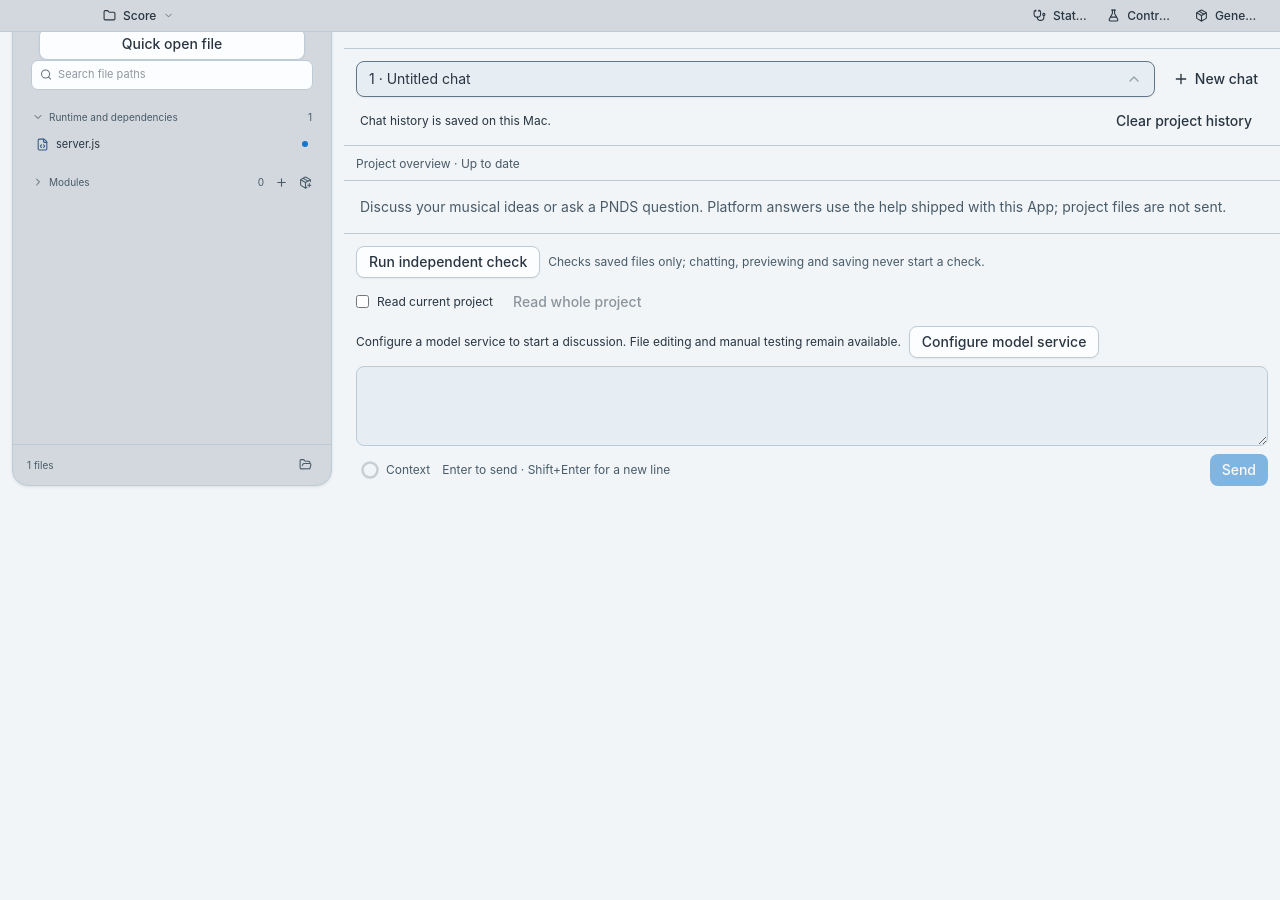
Test case: reviews saved-disk Git differences through the project menu while retaining the draft and run
Click the button with aria-label "Project actions": [139, 16] box [96,4,181,28]
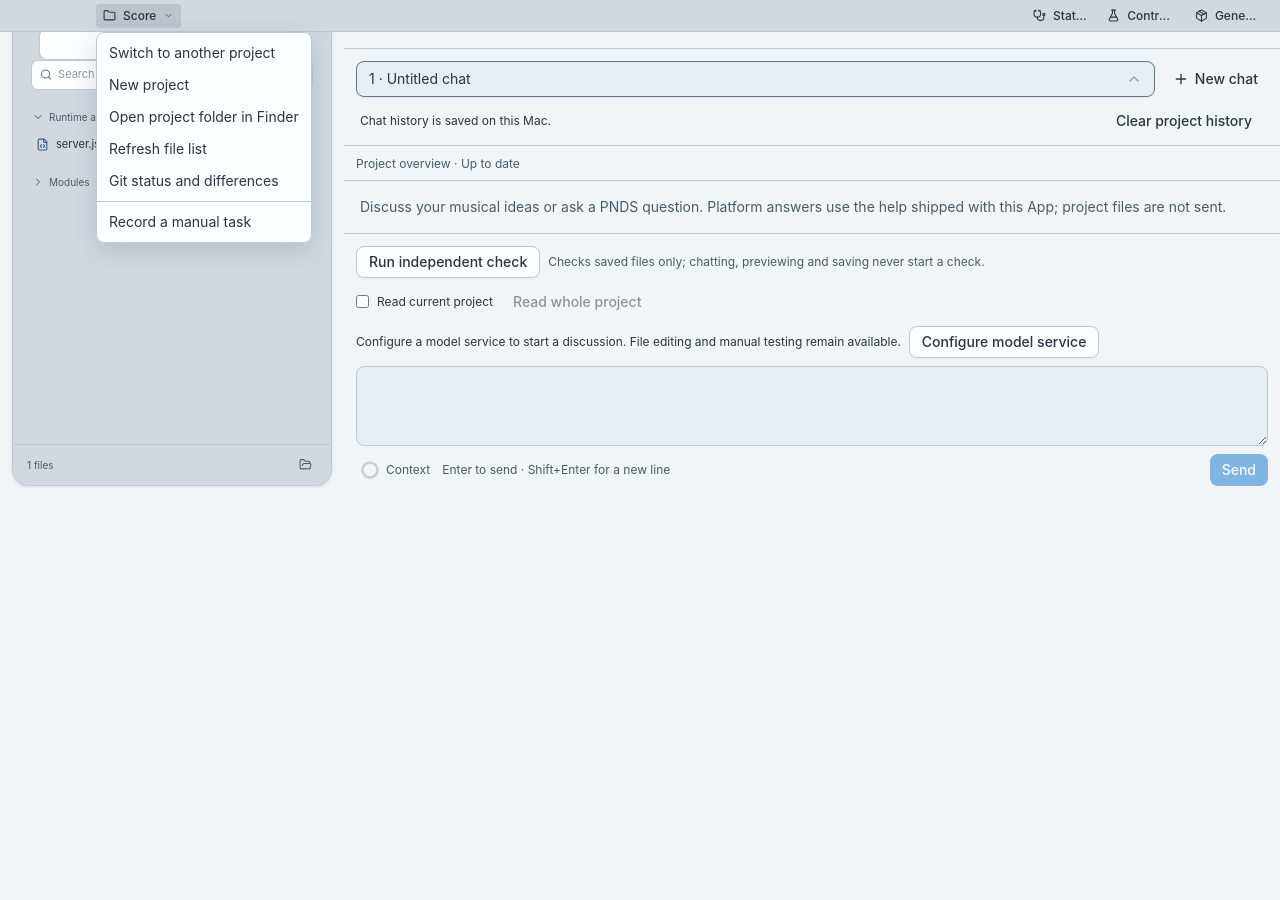
Click the menu item "Git status and differences": [194, 180] box [109,172,279,189]
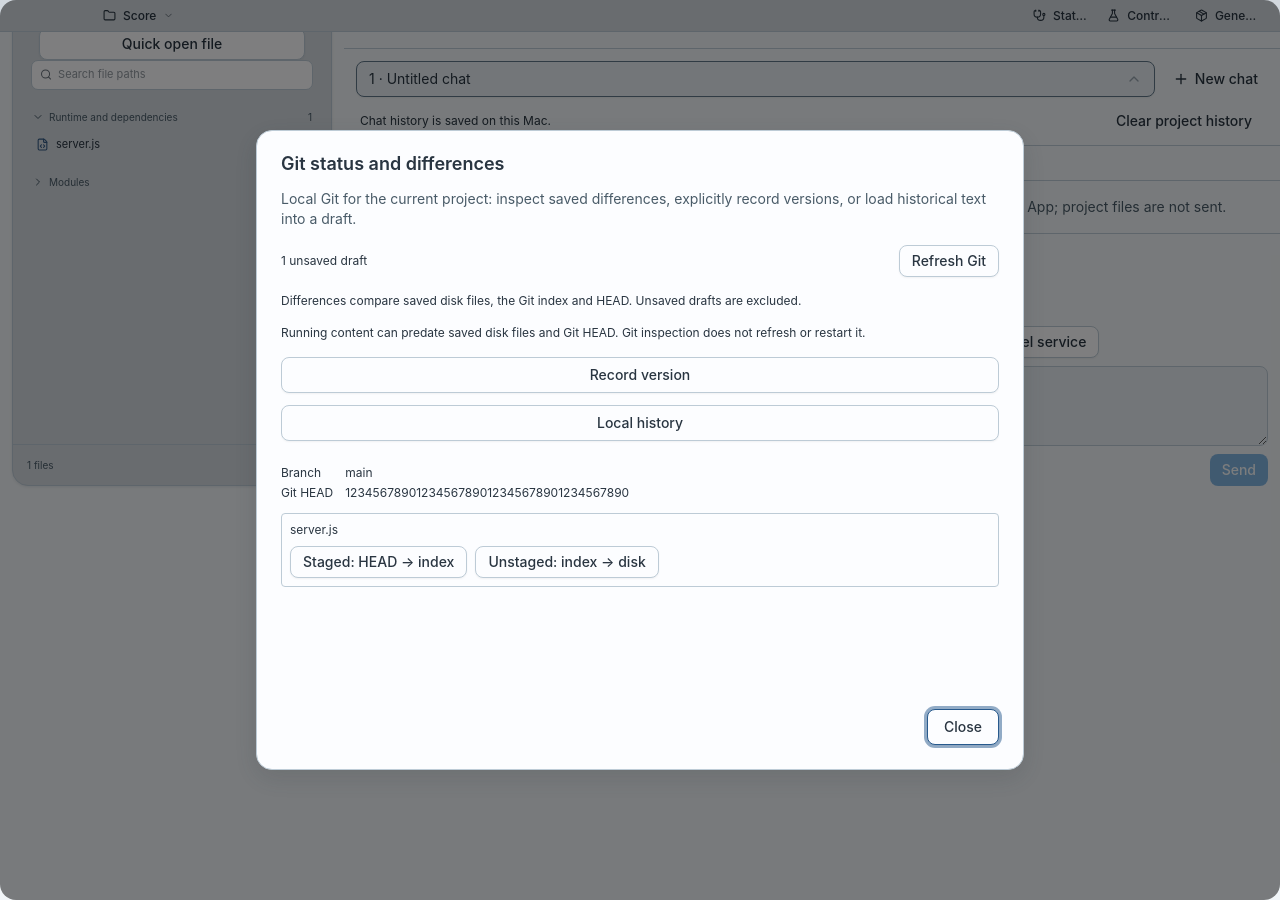
Check: the dialog "Git status and differences" is shown, box [256,130,1024,770]
Check: the text "main" is shown, box [345,465,372,480]
Check: the text "1 unsaved draft" is shown, box [281,253,367,269]
Click the button with aria-label "server.js — Staged: HEAD → index": [379, 562] box [290,546,467,578]
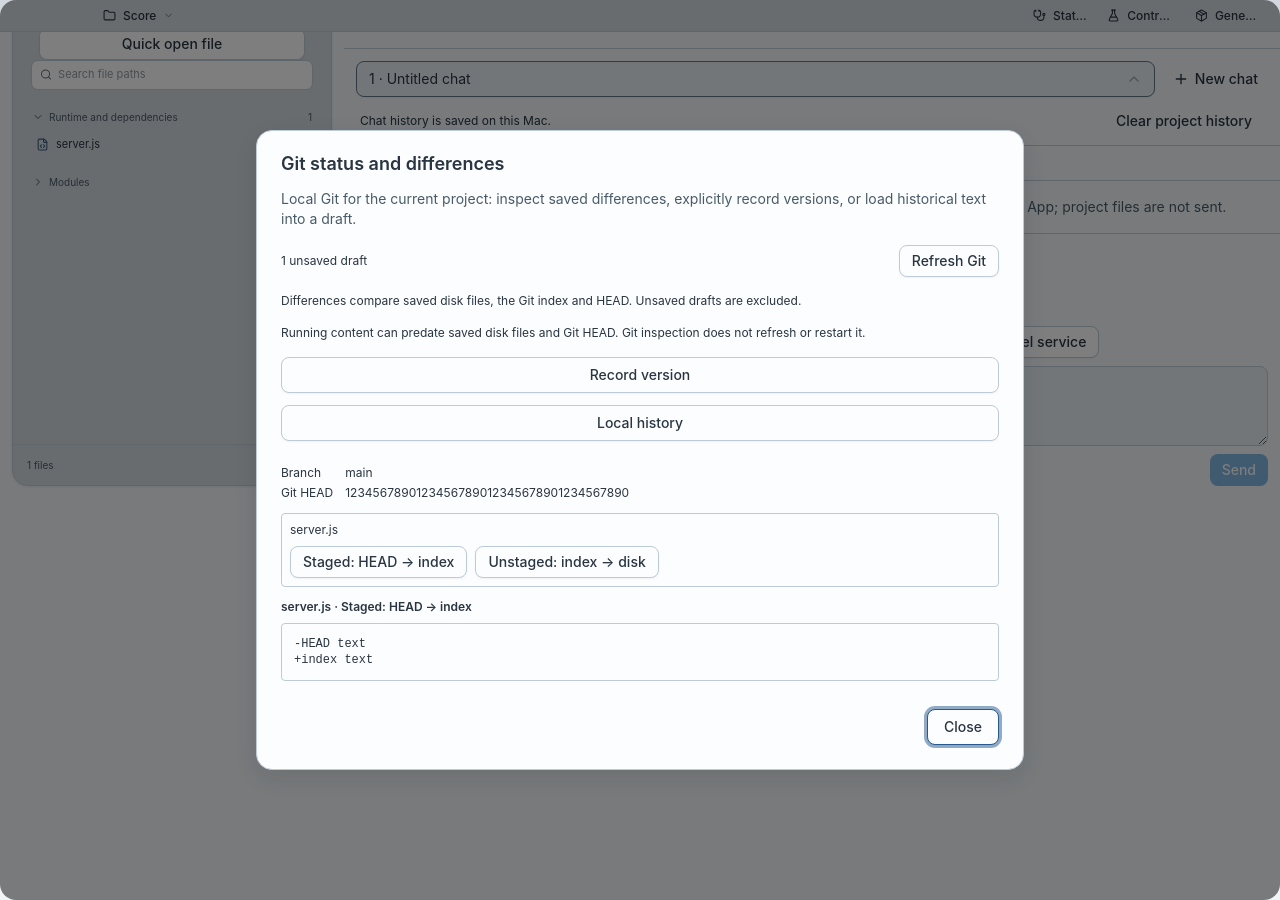
Check: the text "-HEAD text +index text" is shown, box [281,623,999,681]
